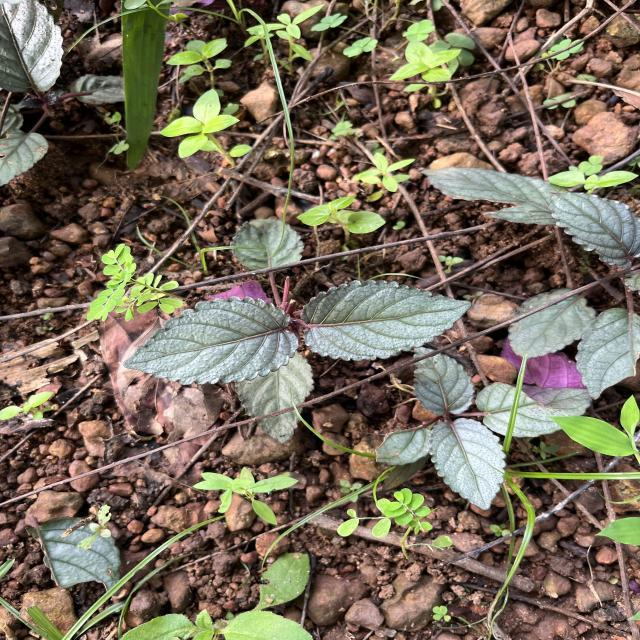Hemigraphis colorata: (120, 295, 302, 386), (299, 277, 474, 363), (543, 186, 640, 271), (426, 416, 508, 512), (411, 344, 476, 418)
